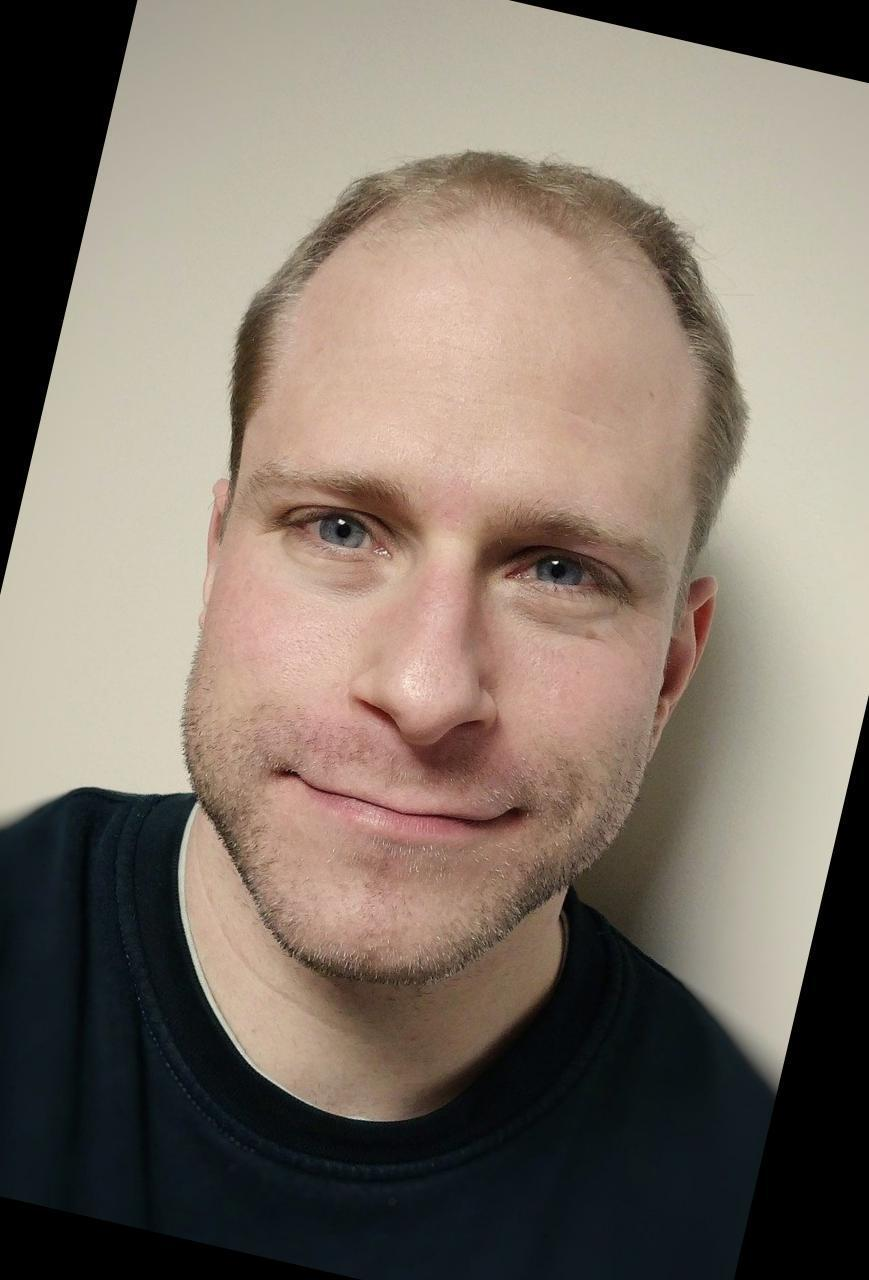Sober: (221, 238, 662, 958)
